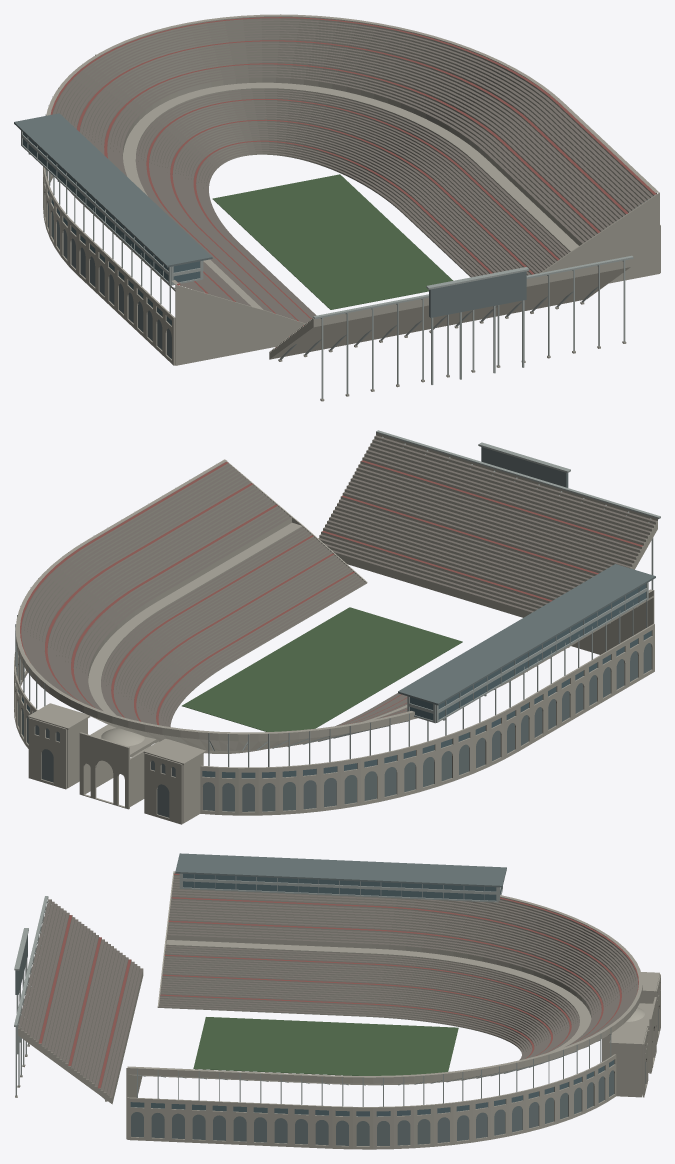
File: ohio-stadium-near.glb
3 renders of one model, top to bottom at view 1: azimuth 30°, elevation 25°; view 2: azimuth 150°, elevation 25°; view 3: azimuth 270°, elevation 25°, orthographic. The views are drawn at different scales.
Visible parts, largest first — view 1: ohio-stadium-0-stone, ohio-stadium-0-seat, ohio-stadium-0-field, ohio-stadium-0-roof, ohio-stadium-0-red, ohio-stadium-0-steel, ohio-stadium-0-glass; view 2: ohio-stadium-0-stone, ohio-stadium-0-seat, ohio-stadium-0-roof, ohio-stadium-0-field, ohio-stadium-0-red, ohio-stadium-0-steel, ohio-stadium-0-glass; view 3: ohio-stadium-0-stone, ohio-stadium-0-seat, ohio-stadium-0-roof, ohio-stadium-0-field, ohio-stadium-0-red, ohio-stadium-0-glass, ohio-stadium-0-steel.
Part boxes in pixels (x1,y1,x2,y2): ohio-stadium-0-stone: [43, 14, 660, 401]; ohio-stadium-0-seat: [53, 19, 653, 351]; ohio-stadium-0-field: [212, 174, 453, 309]; ohio-stadium-0-roof: [14, 113, 526, 358]; ohio-stadium-0-red: [50, 17, 656, 347]; ohio-stadium-0-steel: [21, 88, 654, 399]; ohio-stadium-0-glass: [23, 132, 199, 325]; ohio-stadium-0-stone: [14, 433, 657, 824]; ohio-stadium-0-seat: [21, 435, 656, 726]; ohio-stadium-0-roof: [18, 447, 655, 817]; ohio-stadium-0-field: [182, 607, 462, 731]; ohio-stadium-0-red: [20, 460, 642, 725]; ohio-stadium-0-steel: [15, 430, 660, 767]; ohio-stadium-0-glass: [16, 584, 651, 778]; ohio-stadium-0-stone: [15, 871, 660, 1149]; ohio-stadium-0-seat: [18, 876, 638, 1097]; ohio-stadium-0-roof: [15, 853, 658, 1145]; ohio-stadium-0-field: [193, 1017, 458, 1075]; ohio-stadium-0-red: [38, 873, 638, 1088]; ohio-stadium-0-glass: [130, 874, 614, 1116]; ohio-stadium-0-steel: [14, 873, 611, 1106].
Size of the model in its own units: 214 by 41.45 by 279.
